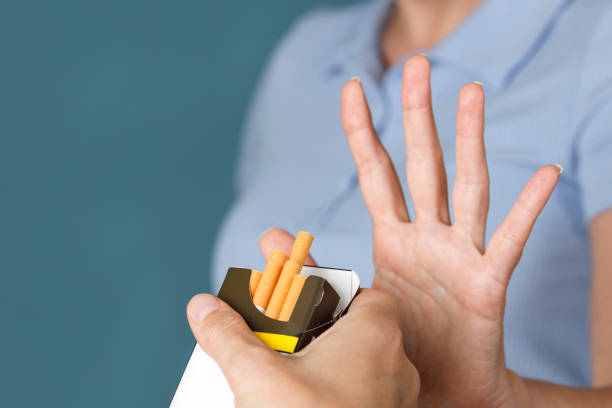cigarette: (167, 263, 362, 408), (263, 230, 315, 319), (251, 249, 289, 315), (275, 273, 309, 323), (244, 268, 263, 299)
